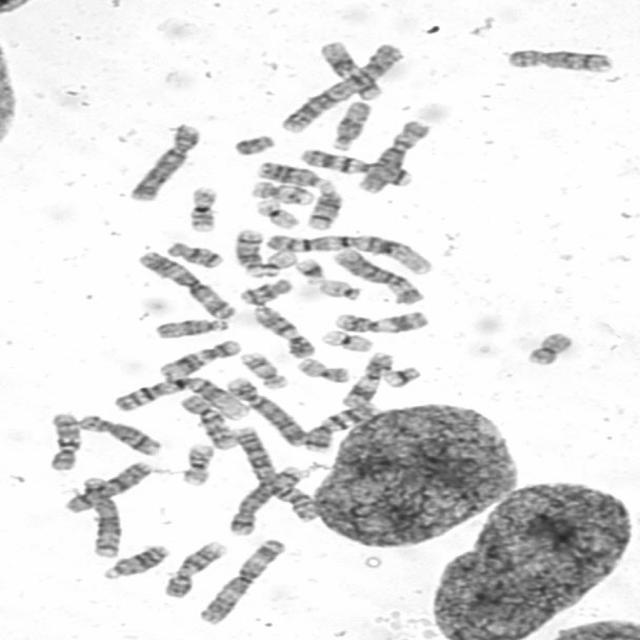A1: (263, 232, 435, 277), (112, 376, 250, 422)
A2: (278, 43, 407, 134), (232, 426, 322, 523)
A3: (196, 537, 289, 625), (135, 249, 238, 322)
B4: (225, 375, 308, 448), (127, 122, 202, 202)
B5: (226, 464, 306, 535), (81, 477, 123, 559)
C10: (178, 393, 240, 450), (42, 412, 81, 473)
C11: (340, 352, 396, 410), (332, 310, 432, 336)
C12: (317, 41, 385, 101), (158, 338, 245, 383)
C6: (352, 118, 432, 197), (334, 248, 426, 307)
C7: (301, 148, 417, 188), (303, 400, 383, 452)
C8: (76, 413, 165, 458), (506, 47, 618, 76)
C9: (162, 540, 230, 598), (250, 302, 318, 359)
D13: (97, 544, 169, 582), (259, 160, 335, 188)
D14: (233, 228, 270, 280), (306, 185, 346, 231)
D15: (330, 98, 374, 152), (152, 318, 228, 340)
E16: (186, 184, 219, 234), (176, 444, 215, 486)
E17: (239, 351, 289, 390), (249, 178, 316, 206)
E18: (166, 240, 227, 270), (241, 276, 296, 306)
F19: (254, 197, 302, 230), (320, 328, 377, 355)
F20: (524, 332, 574, 366), (297, 355, 350, 384)
G21: (291, 256, 325, 284), (380, 367, 422, 389)
G22: (317, 279, 365, 303), (262, 248, 297, 278)
X: (60, 461, 154, 515)
Y: (224, 134, 278, 159)
